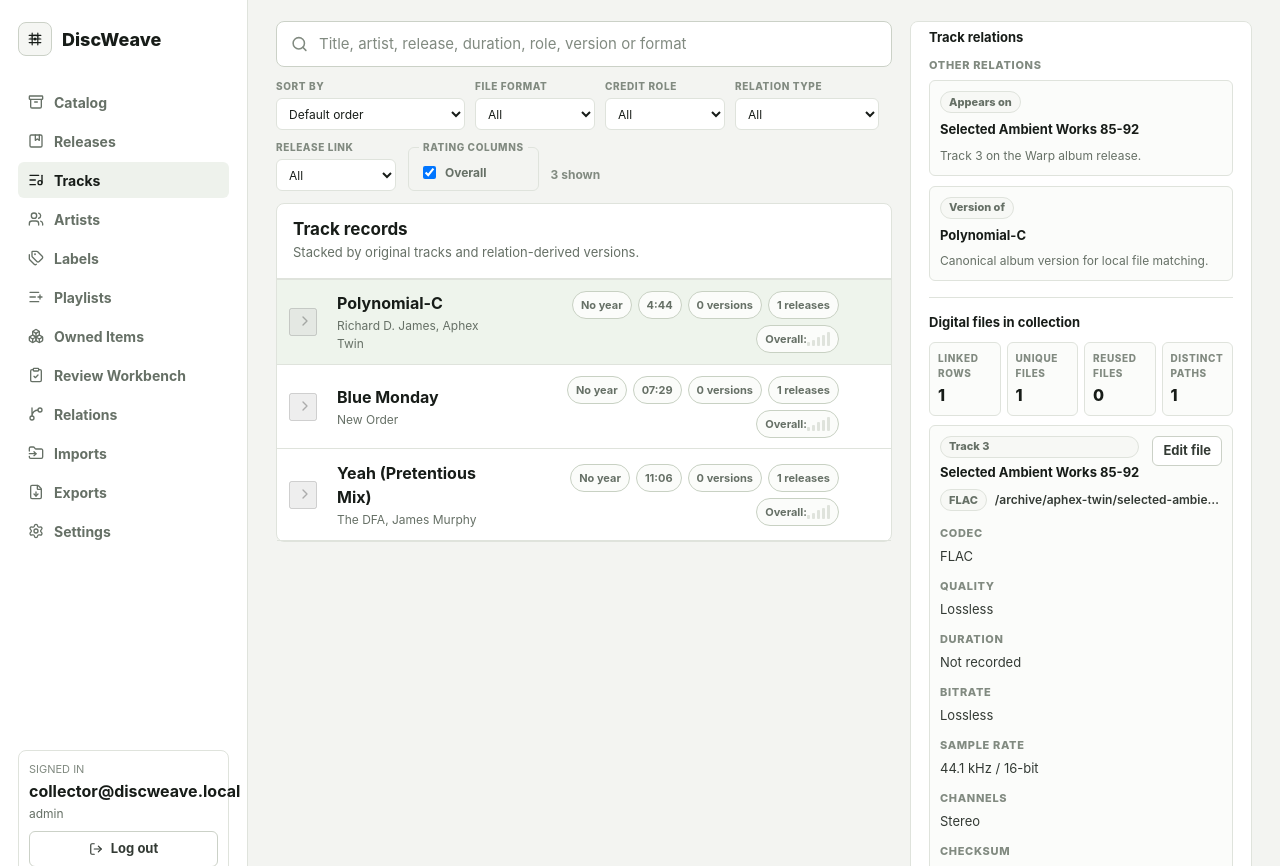
Scenario: App local track file editor › shows naming profile proposed rows and disables apply when paths are unchanged
(page scrolled)
Click the button with aria-label "edit file for selected ambient works 85-92 track 3" at (1187, 451), box [1152,436,1222,466]
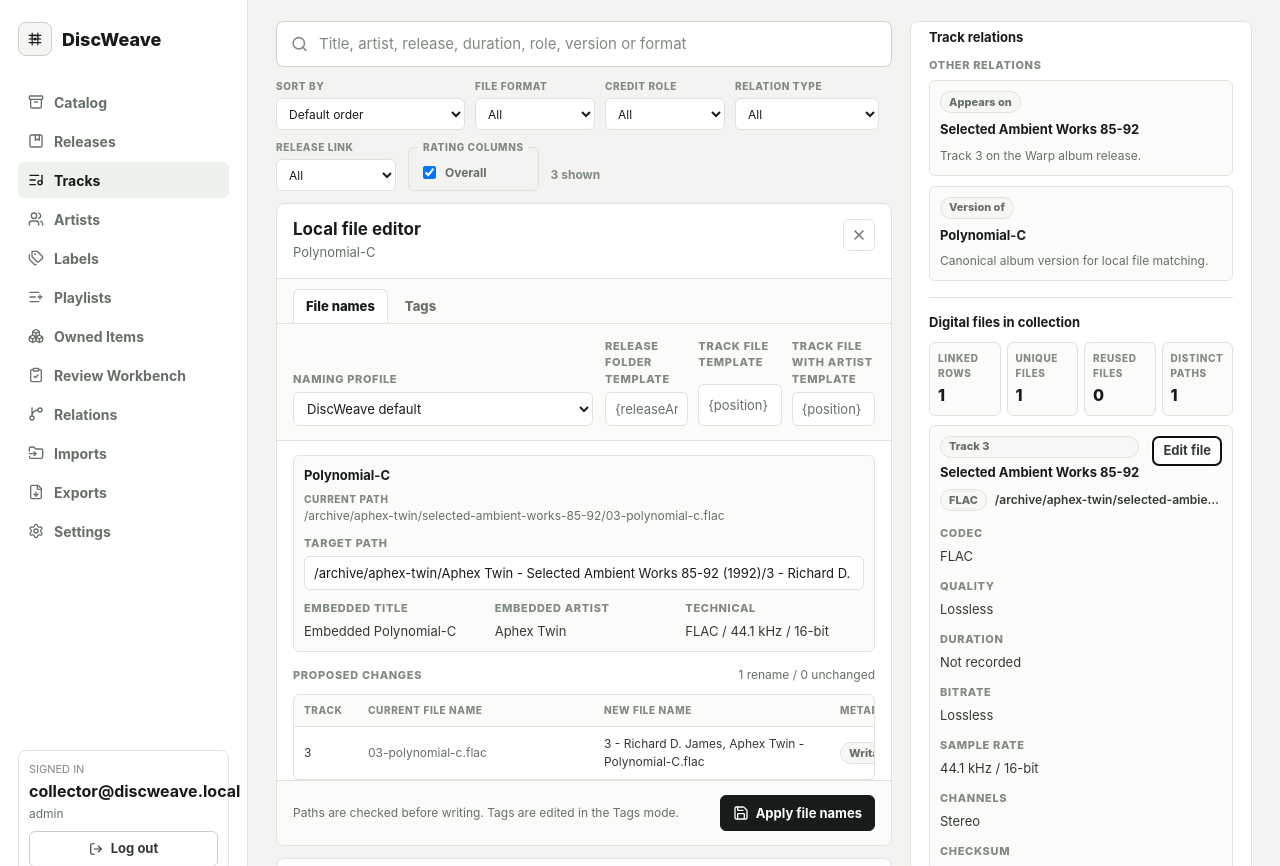
Expected: the dropdown labelled "Naming profile" is shown, [293,392,593,426]
Expected: the field labelled "Target path" holds "/archive/aphex-twin/Aphex Twin - Selected Ambient Works 85-92 (1992)/3 - Richard D. James, Aphex Twin - Polynomial-C.flac"
Expected: the column heading "Current file name" is shown, [358,696,594,727]
Replace the text in the field labelled "Target path" with "/archive/aphex-twin/selected-ambient-works-85-92/03-polynomial-c.flac" at (584, 574), box [304,556,864,590]
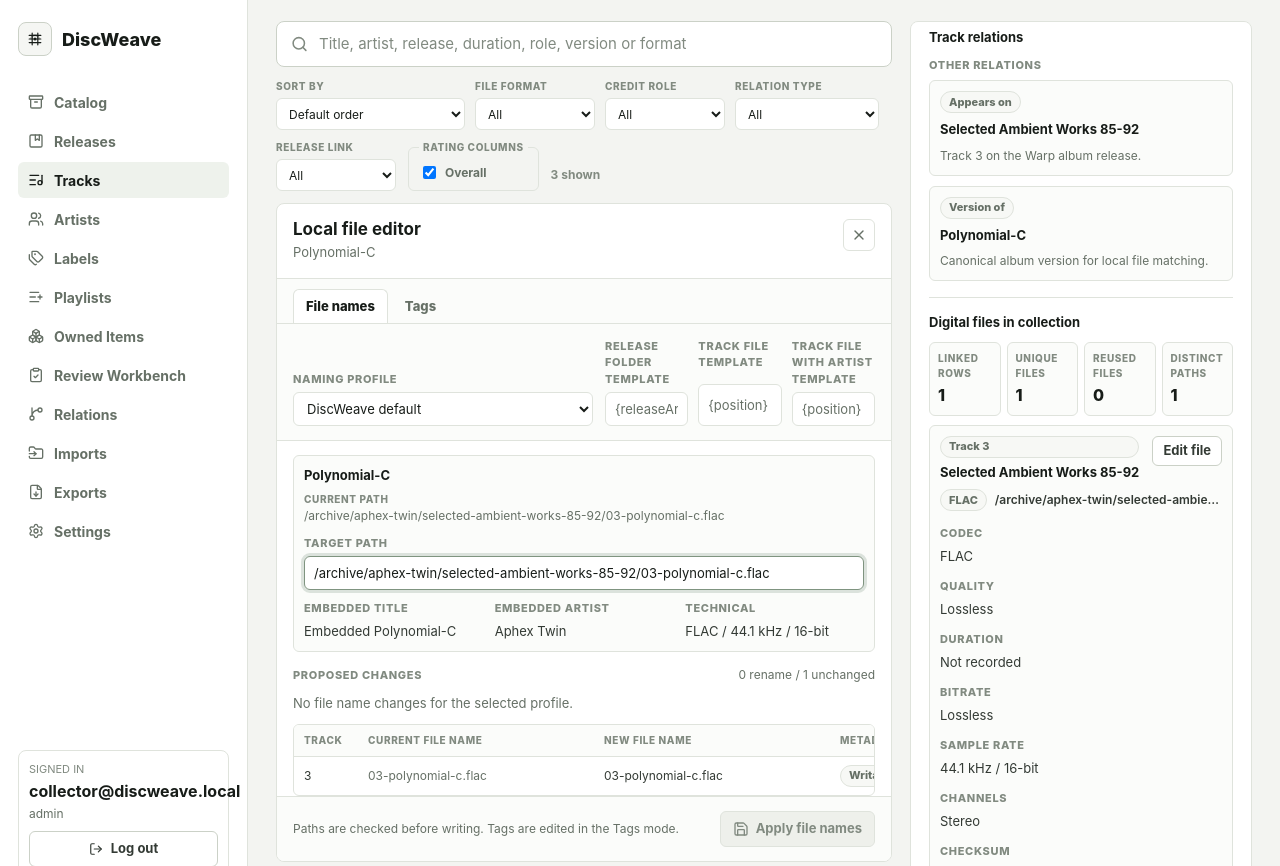
Expected: the text "No file name changes for the selected profile." is shown, [293,696,573,712]
Expected: the button "Apply file names" is disabled, [720,811,875,847]
